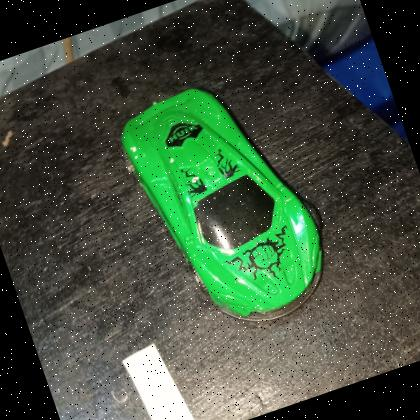Car: (120, 88, 323, 320)
